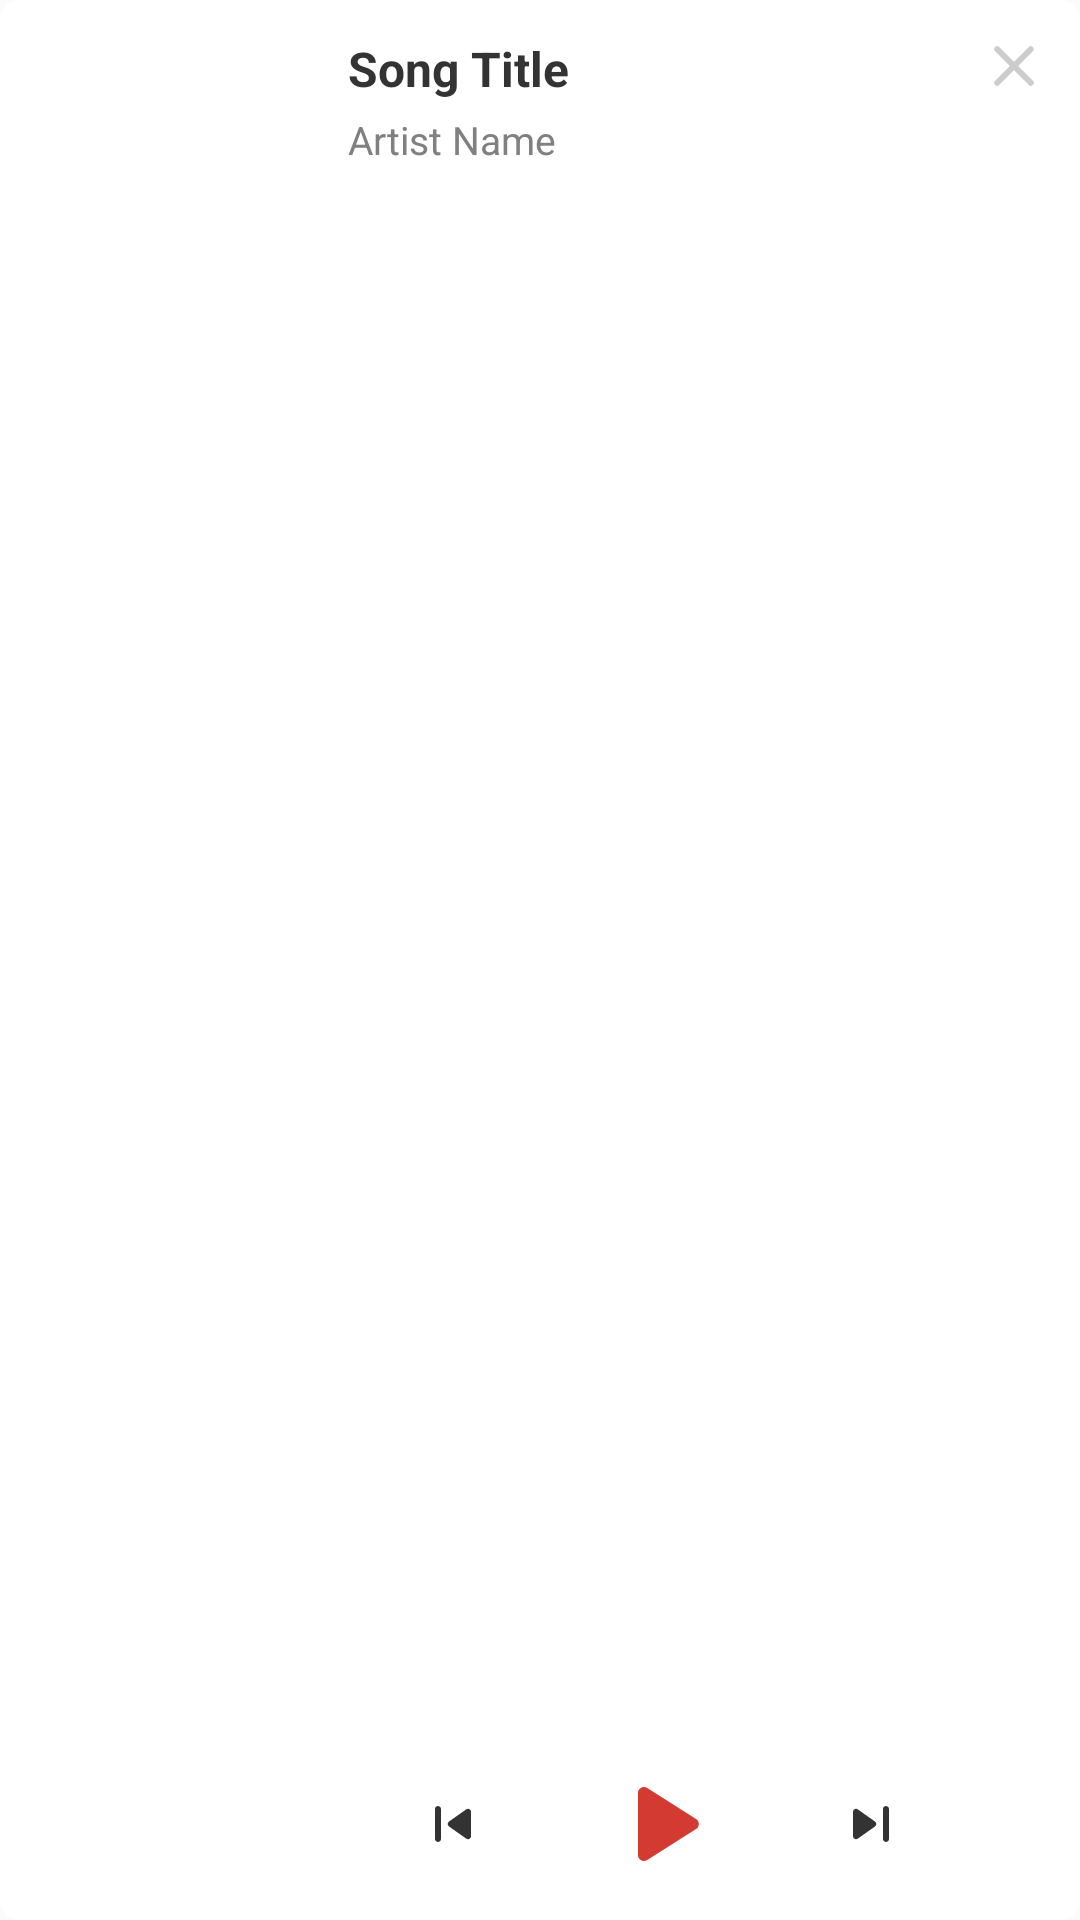

Icon bounding boxes for this 1080x1920 phone screenshot, format (x1, y1, x2, y2):
music close: (994, 46, 1034, 86)
music next: (853, 1806, 889, 1842)
music play: (638, 1787, 699, 1861)
music prev: (435, 1806, 471, 1842)
